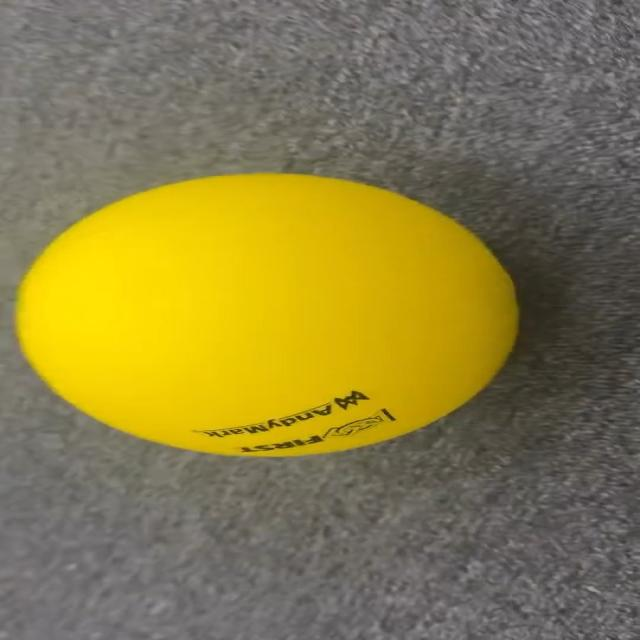Fuels: (16, 176, 518, 452)
